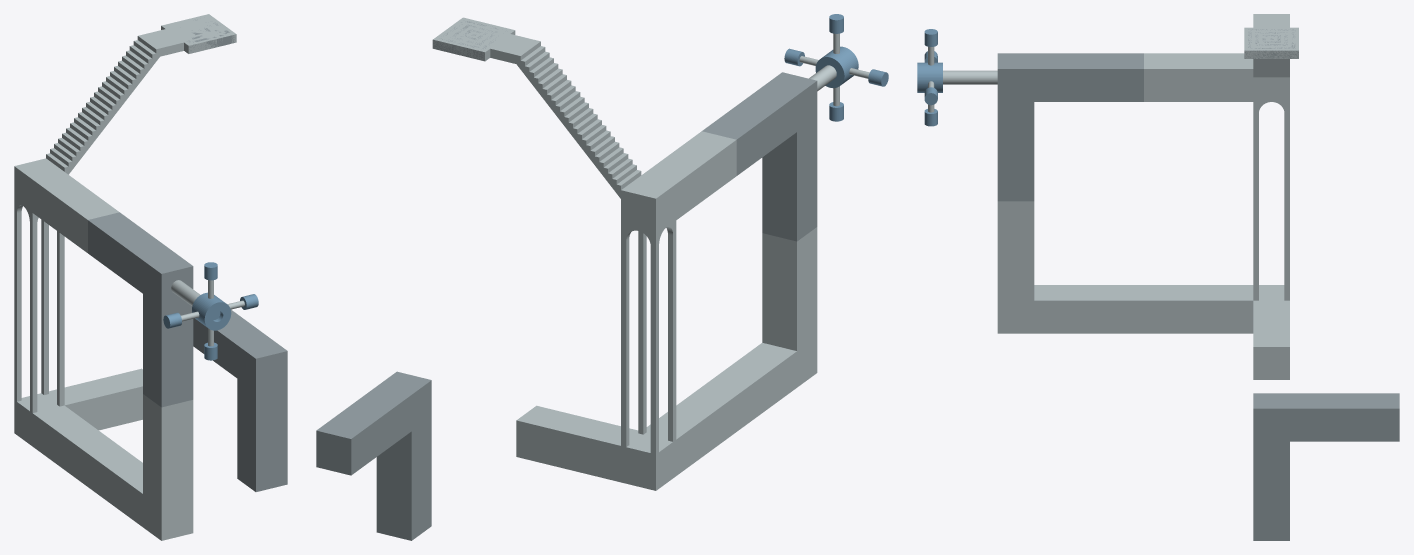
File: monumentvalley.fbx
3 views of the same model, side by side, from view 1: azimuth 30°, elevation 25°; view 2: azimuth 150°, elevation 25°; view 3: azimuth 270°, elevation 25° (orthographic). The views are drawn at different scales.
Parts seen in each view (by area): view 1: FrontTurningElbow, Elbow01, BackTurningElbow, Elbow02, Pillars, Straight01, Handle, Cube.009, Stairs03, Stairs02, Stairs01, Target; view 2: BackTurningElbow, Elbow02, FrontTurningElbow, Elbow01, Pillars, Straight01, Handle, Cube.009, Stairs02, Stairs03, Stairs01, Target; view 3: FrontTurningElbow, BackTurningElbow, Elbow01, Elbow02, Straight01, Handle, Pillars, Cube.009, Target, Stairs01.
Part boxes in pixels (x1,y1,x2,y2): FrontTurningElbow: (88,212,193,407); Elbow01: (88,394,193,540); BackTurningElbow: (193,309,287,491); Elbow02: (14,368,142,486); Pillars: (14,200,64,413); Straight01: (14,158,119,252); Handle: (163,262,258,360); Cube.009: (142,14,236,56); Stairs03: (110,35,160,97); Stairs02: (78,76,128,138); Stairs01: (46,117,96,174); Target: (163,15,234,53); BackTurningElbow: (316,371,431,540); Elbow02: (516,387,736,490); FrontTurningElbow: (702,72,817,241); Elbow01: (702,227,817,431); Pillars: (621,221,676,454); Straight01: (621,131,736,234); Handle: (784,14,888,121); Cube.009: (432,17,535,63); Stairs02: (551,85,606,153); Stairs03: (516,40,571,108); Stairs01: (586,130,641,198); Target: (432,20,509,61); FrontTurningElbow: (997,53,1143,201); BackTurningElbow: (1253,393,1399,540); Elbow01: (997,201,1143,333); Elbow02: (1144,285,1289,379); Straight01: (1144,53,1289,101); Handle: (917,29,997,126); Pillars: (1253,102,1289,300); Cube.009: (1244,16,1298,58); Target: (1244,27,1298,58); Stairs01: (1253,59,1289,77).
Size of what is drawn, in the model's own units: 1778 by 2800 by 2640.
